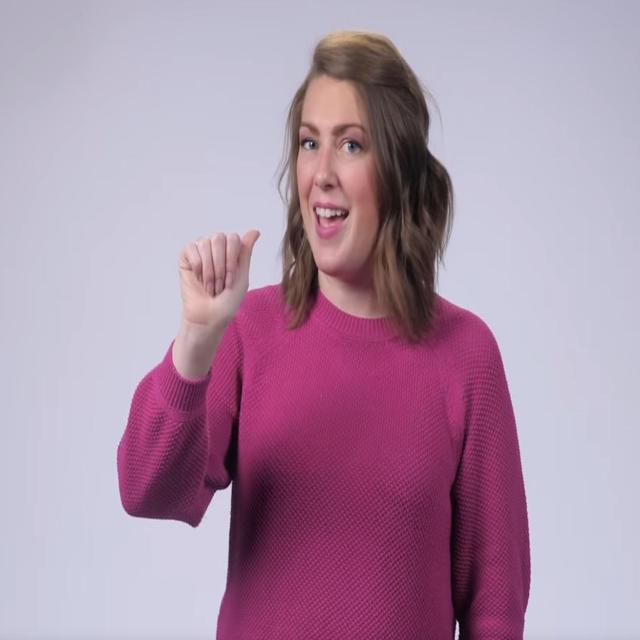A: (175, 225, 263, 333)
